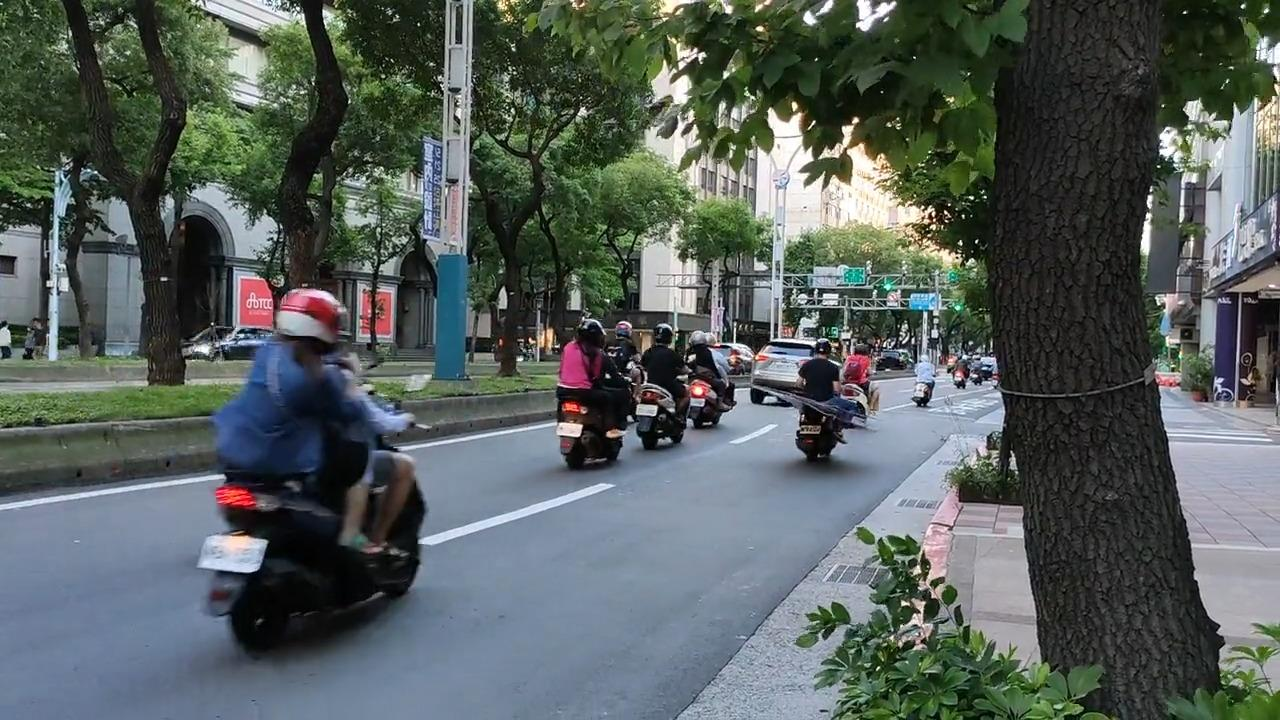driver: (194, 289, 433, 651), (555, 319, 632, 469), (635, 323, 696, 450), (795, 338, 855, 462), (686, 330, 737, 429)
helmet: (276, 288, 351, 355), (577, 319, 605, 347), (653, 323, 674, 346), (814, 339, 831, 359), (690, 330, 707, 347), (706, 332, 717, 348)
